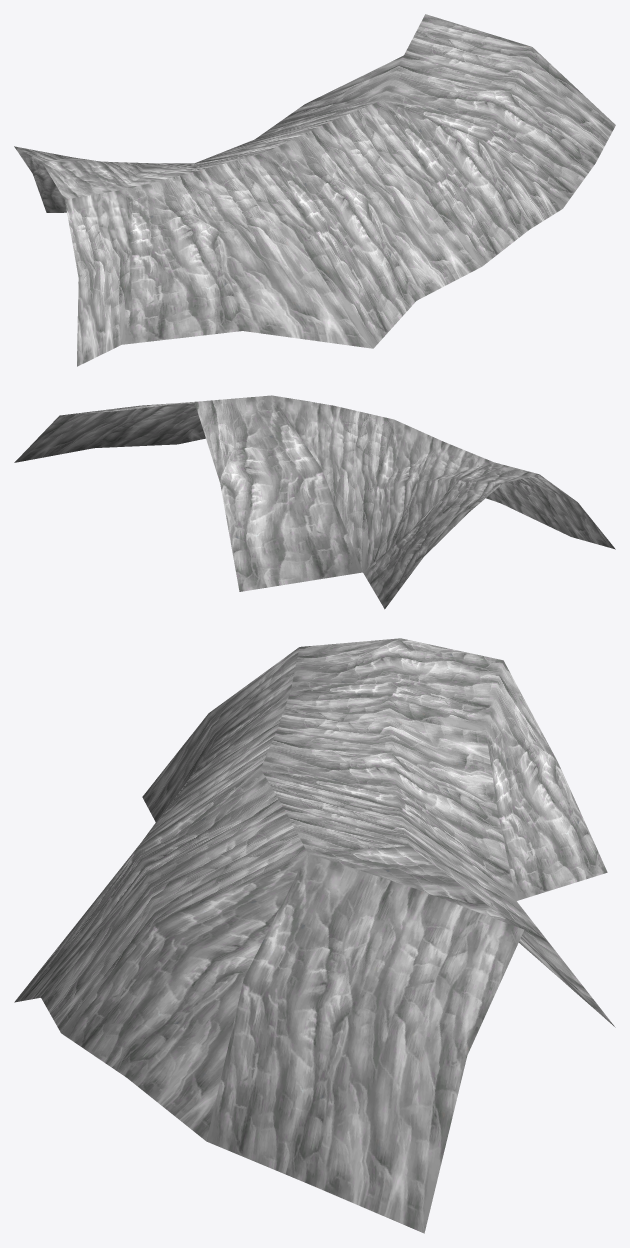
The model's file is SWORDLIGHT20_PS-AREA03_04.fbx.
The picture shows the model from 3 angles, top to bottom: view 1: azimuth 30°, elevation 25°; view 2: azimuth 150°, elevation 25°; view 3: azimuth 270°, elevation 25°; orthographic projection. The views are drawn at different scales.
Parts seen in each view (by area): view 1: SWORDLIGHT20_PS-AREA03_04; view 2: SWORDLIGHT20_PS-AREA03_04; view 3: SWORDLIGHT20_PS-AREA03_04.
Part boxes in pixels (<box>): SWORDLIGHT20_PS-AREA03_04: <box>14,14,615,366</box>; SWORDLIGHT20_PS-AREA03_04: <box>14,395,615,609</box>; SWORDLIGHT20_PS-AREA03_04: <box>14,638,615,1233</box>.
Size of the model in its own units: 302636 by 71511 by 165659.
1 material, 1 textured.
